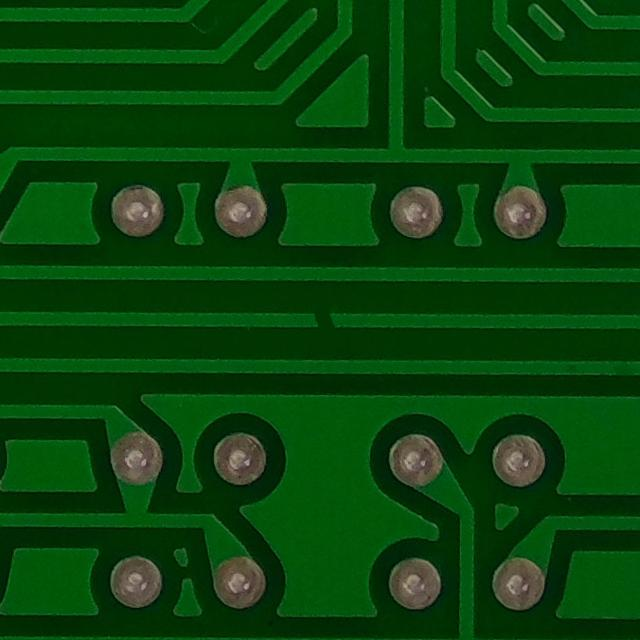open_circuit: (292, 296, 348, 345)
